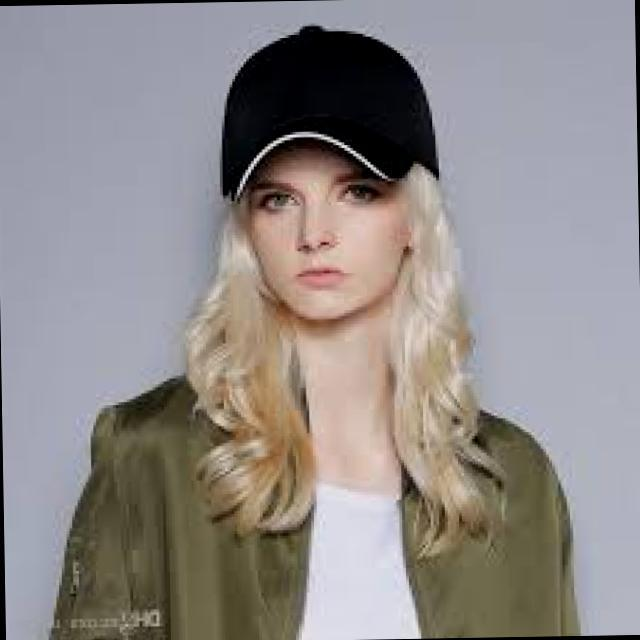cap: (181, 5, 461, 236)
